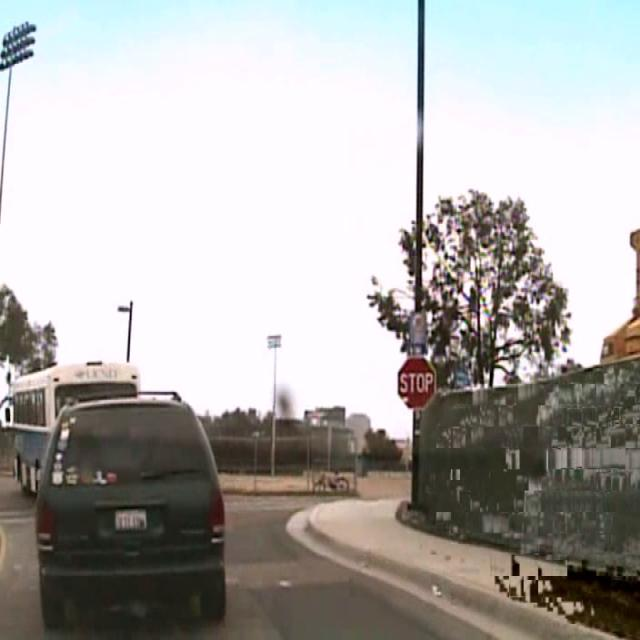stop_sign: (396, 355, 436, 408)
